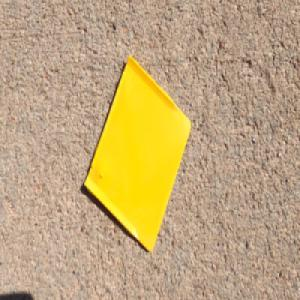PlasticPart: (82, 51, 191, 253)
